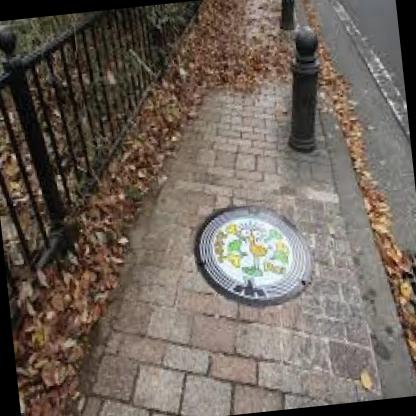manholes: (172, 170, 340, 330)
